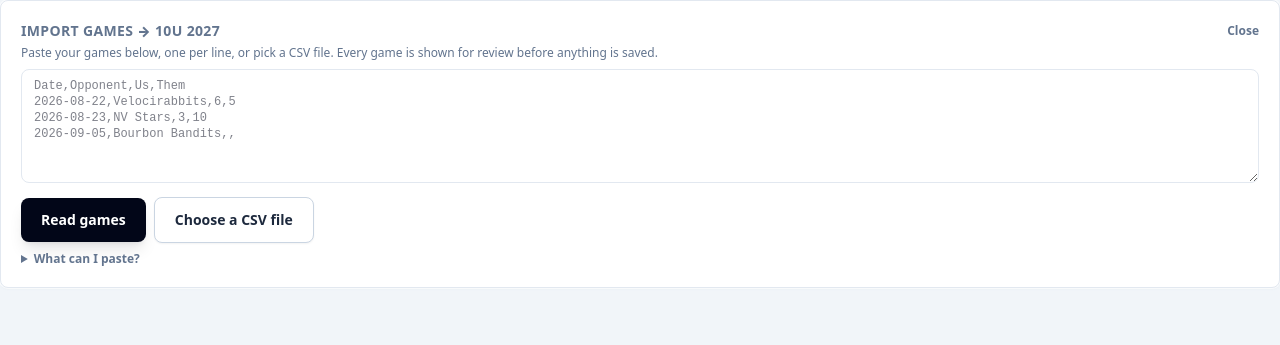
it: adding the reviewed rows where the server adds them › does not ask again about rows already being asked about when a box is ticked meanwhile
This screenshot has width=1280, height=345.
Click the text box named "Games to import" at (640, 126), box [21,69,1259,183]
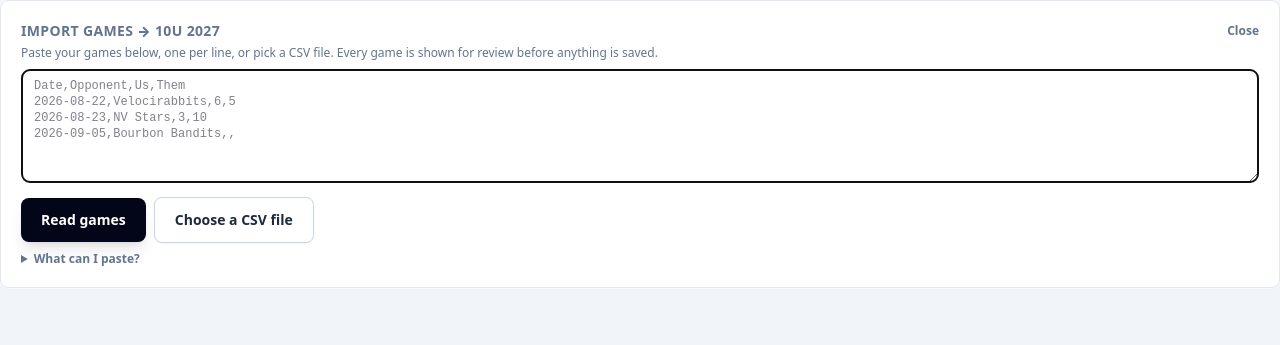
Type keys "Date,Opponent,Us,Them 2026-08-22,Velocirabbits,6,5 2026-08-23,NV Stars,3,10"
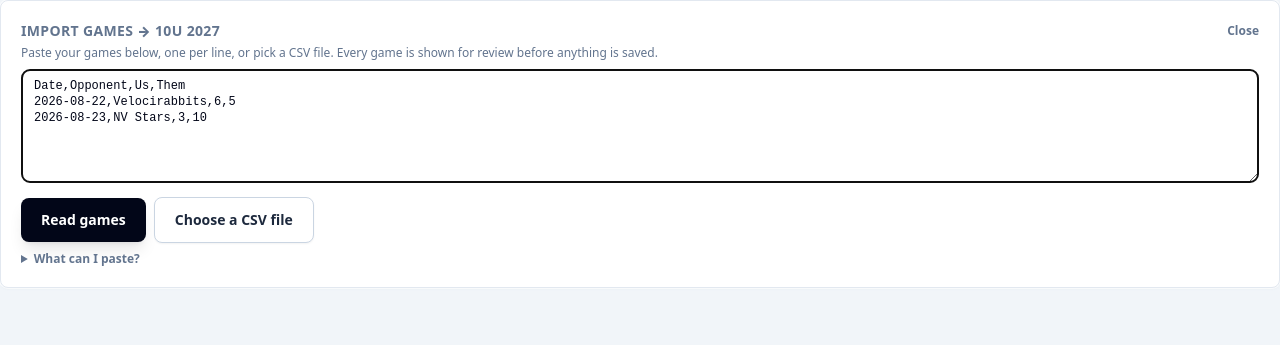
Click the button "Read games" at (83, 220), box [21,198,146,242]
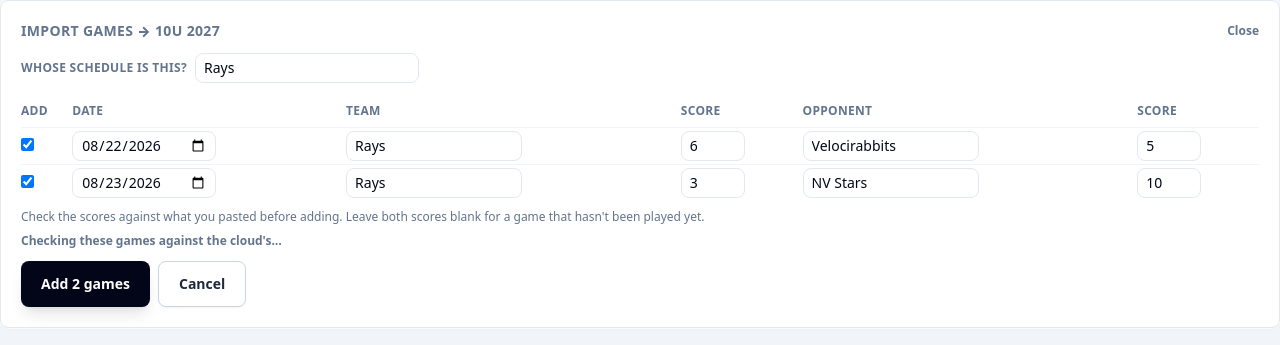
Click the checkbox named "Add Rays versus NV Stars" at (28, 182), box [21,175,34,188]
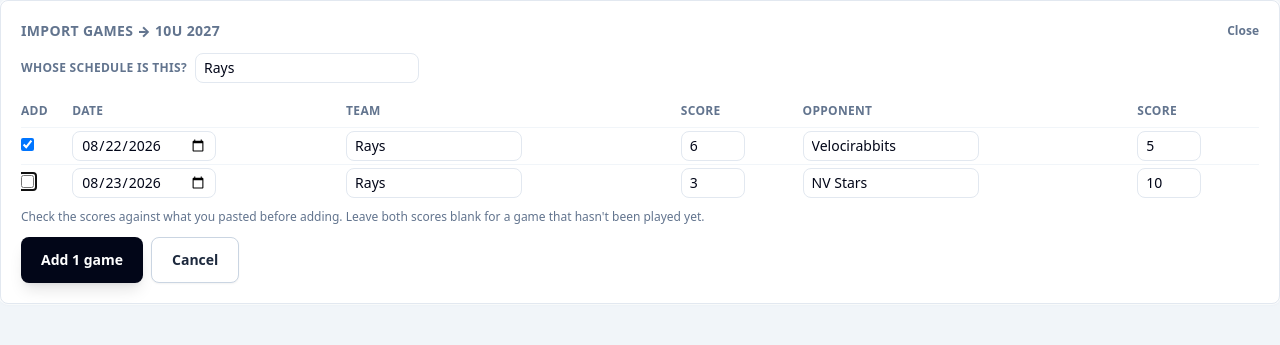
Now the text "Checking these games" is gone
